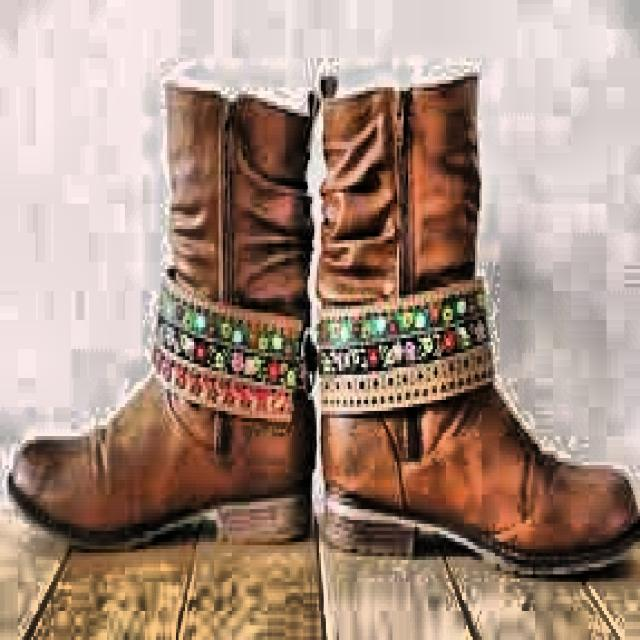shoes: (2, 76, 640, 574)
